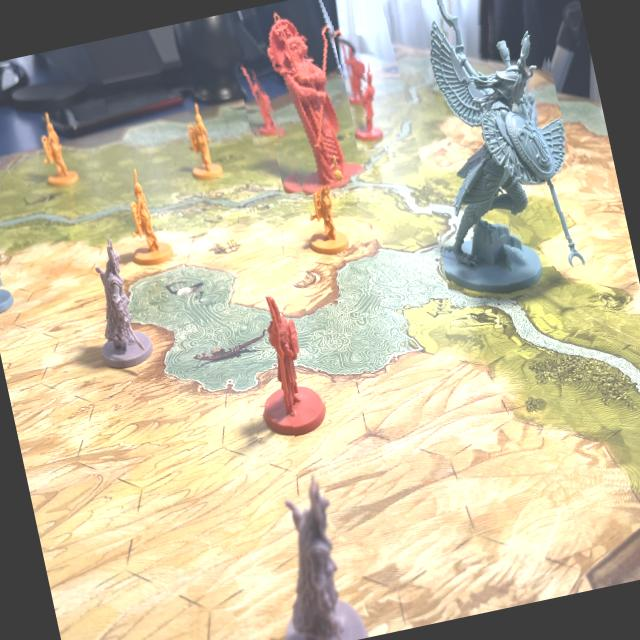amon: (235, 0, 383, 198)
amon_follower: (229, 288, 330, 444), (232, 50, 293, 149), (339, 50, 397, 152), (334, 32, 372, 120)
isis: (383, 0, 598, 310)
